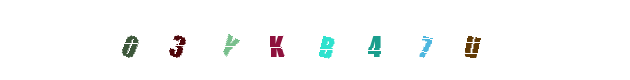0: (93, 0, 173, 80)
3: (220, 0, 300, 80)
4: (302, 0, 382, 80)
7: (318, 0, 398, 80)
B: (275, 0, 355, 80)
K: (230, 0, 310, 80)
U: (335, 0, 415, 80)
Y: (226, 0, 306, 80)
